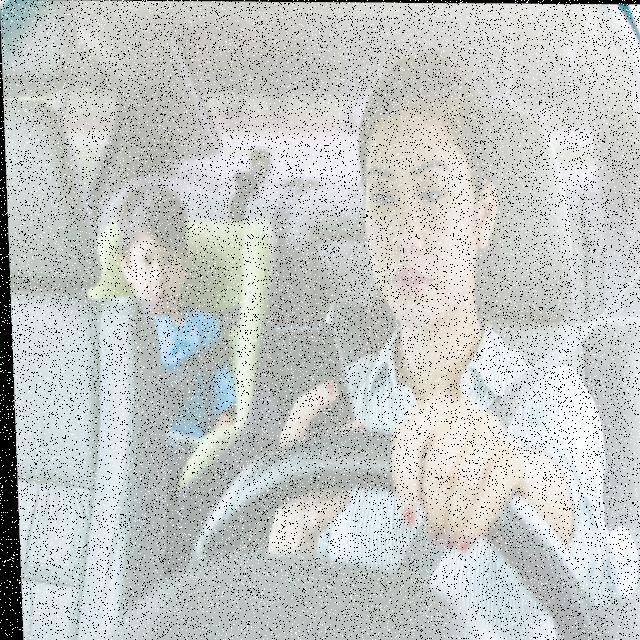seatbelt: (344, 291, 588, 595)
